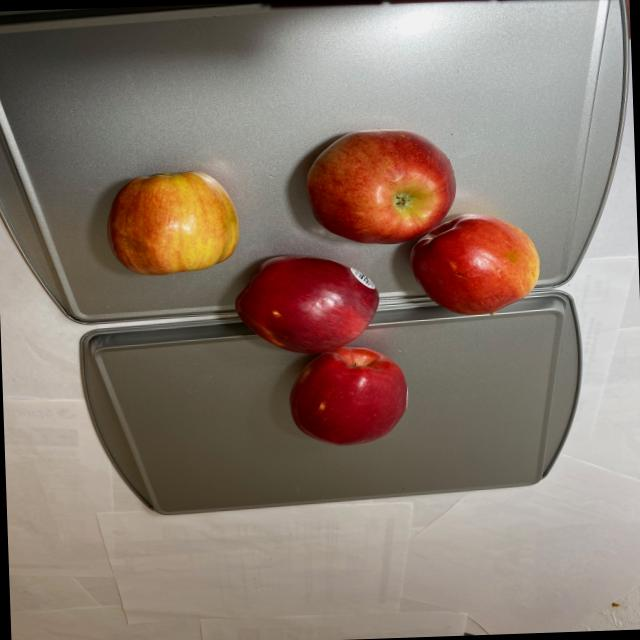apple: (98, 131, 542, 454)
